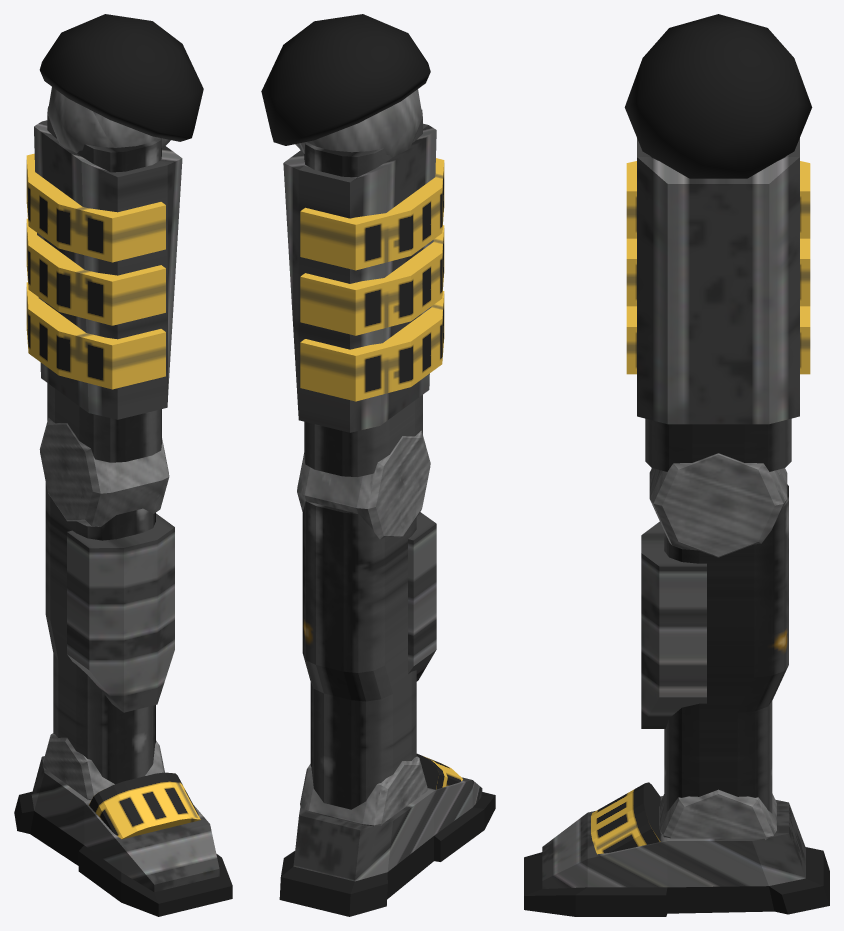
File: Robot 9 R Leg.fbx
3 renders of one model, left to right at view 1: azimuth 30°, elevation 25°; view 2: azimuth 150°, elevation 25°; view 3: azimuth 270°, elevation 25°, orthographic. The views are drawn at different scales.
Visible parts, largest first — view 1: Icosphere.011, Cylinder.001, Cube.015; view 2: Icosphere.011, Cylinder.001, Cube.015; view 3: Icosphere.011, Cylinder.001, Cube.015.
Boxes of the visible parts, left/top/right/bottom form: Icosphere.011: left=26, top=14, right=203, bottom=462; Cylinder.001: left=39, top=418, right=174, bottom=799; Cube.015: left=14, top=756, right=232, bottom=916; Icosphere.011: left=261, top=14, right=444, bottom=476; Cylinder.001: left=297, top=430, right=436, bottom=826; Cube.015: left=279, top=753, right=495, bottom=916; Icosphere.011: left=624, top=14, right=812, bottom=471; Cylinder.001: left=641, top=453, right=788, bottom=839; Cube.015: left=524, top=782, right=829, bottom=916.
Bounding box in the file's own units: 137 × 713 × 227.
